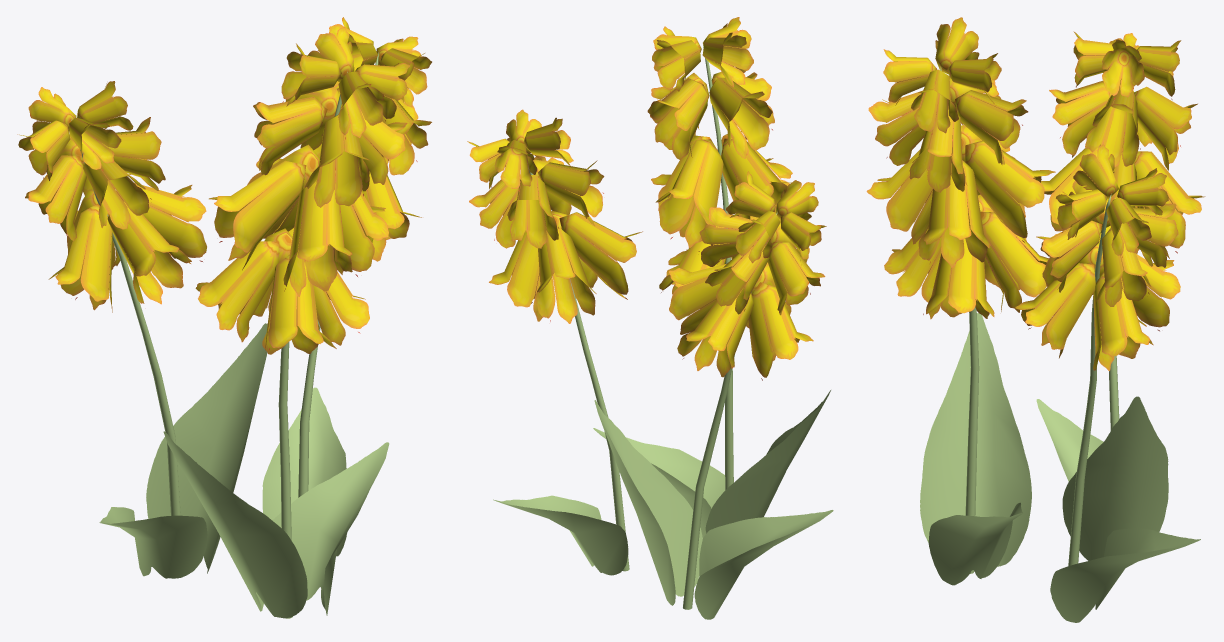
File: flower_4_group.glb
The picture shows the model from 3 angles, left to right: view 1: azimuth 30°, elevation 25°; view 2: azimuth 150°, elevation 25°; view 3: azimuth 270°, elevation 25°; orthographic projection. The views are drawn at different scales.
Parts seen in each view (by area): view 1: Flower_4_Group; view 2: Flower_4_Group; view 3: Flower_4_Group.
Part boxes in pixels (<box>): Flower_4_Group: <box>17,17,431,618</box>; Flower_4_Group: <box>467,17,833,619</box>; Flower_4_Group: <box>866,17,1205,622</box>.
Bounding box in the file's own units: 0.2148 × 0.3 × 0.165.
Materials: 2 (2 with a texture image).
